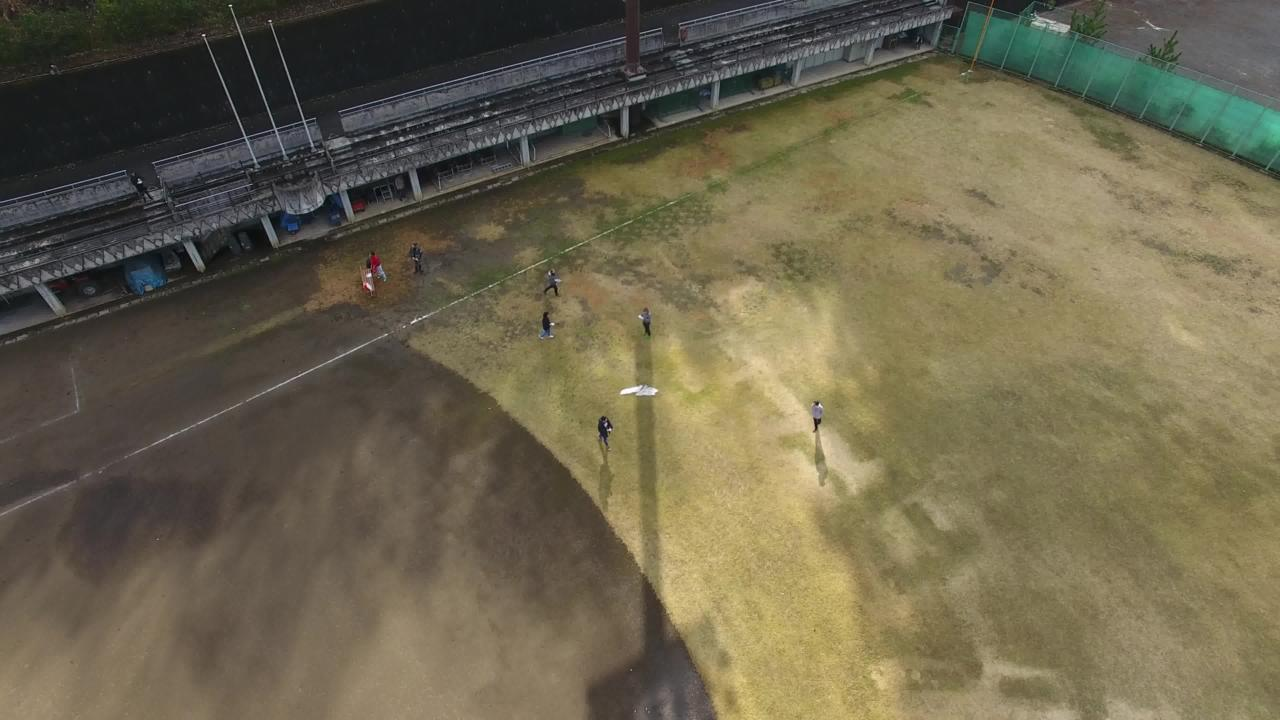person: (799, 395, 837, 445), (589, 409, 623, 457), (632, 303, 660, 348), (531, 304, 559, 349), (537, 259, 565, 304), (403, 236, 431, 281), (126, 167, 154, 212), (385, 169, 413, 214), (365, 247, 386, 288), (908, 22, 929, 63)
